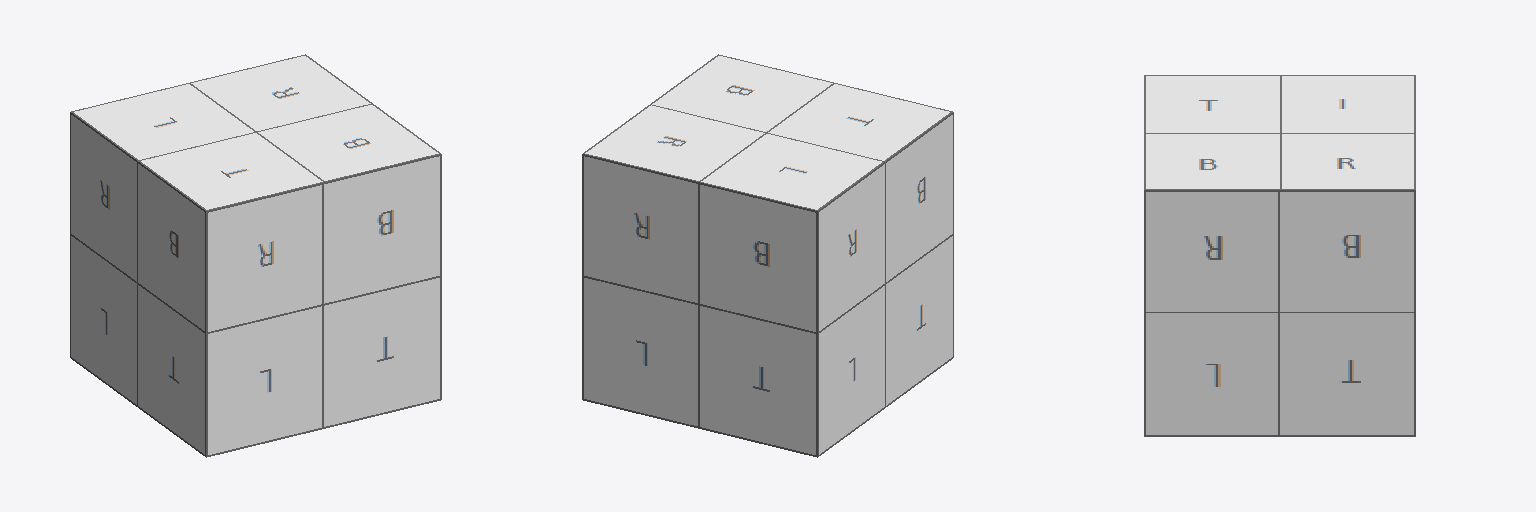
3 renders of one model, left to right at view 1: azimuth 30°, elevation 25°; view 2: azimuth 150°, elevation 25°; view 3: azimuth 270°, elevation 25°, orthographic.
Parts seen in each view (by area): view 1: Cube_Cube.005; view 2: Cube_Cube.005; view 3: Cube_Cube.005.
Boxes of the visible parts, x1=… form: Cube_Cube.005: x1=70, y1=54, x2=441, y2=457; Cube_Cube.005: x1=582, y1=54, x2=953, y2=457; Cube_Cube.005: x1=1144, y1=75, x2=1415, y2=436.
Bounding box in the file's own units: 2 × 2 × 2.
1 materials, 1 textured.